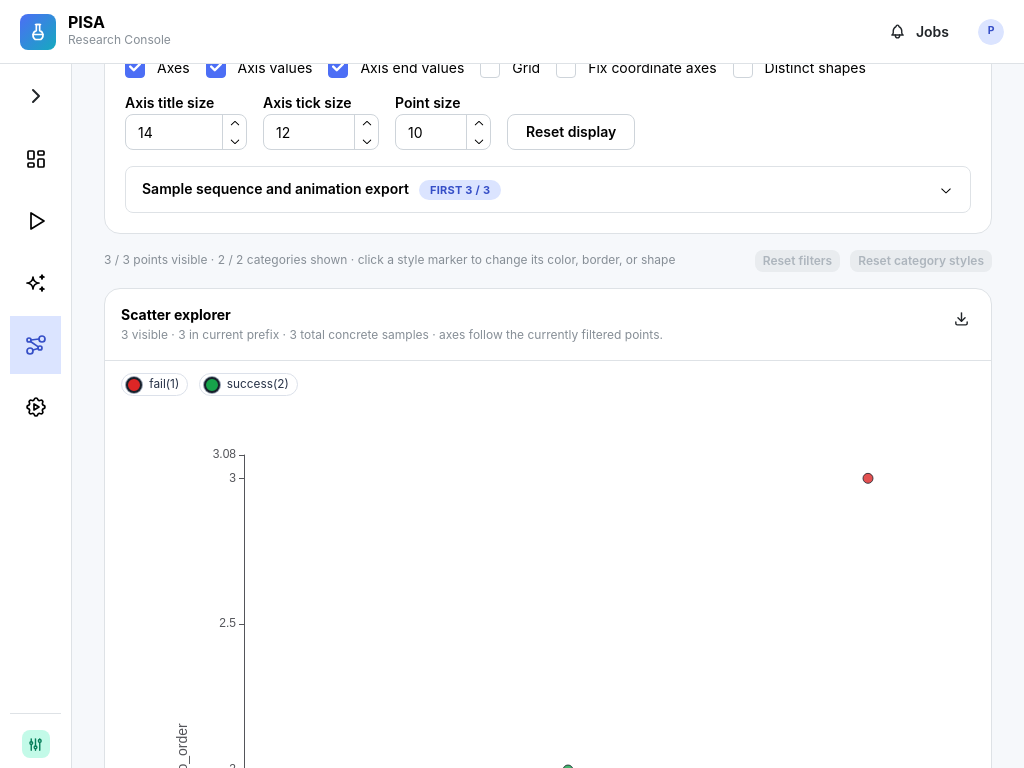
PISA Research Console › shows scatter category counts and updates the visible point total
(page scrolled)
Expected: the text "3 / 3 points visible" is shown, 104,252 -> 676,269
Expected: the button "fail(1)" is shown, 145,376 -> 183,393
Click the button "success(2)": {"x": 258, "y": 385} 223,376 -> 293,393
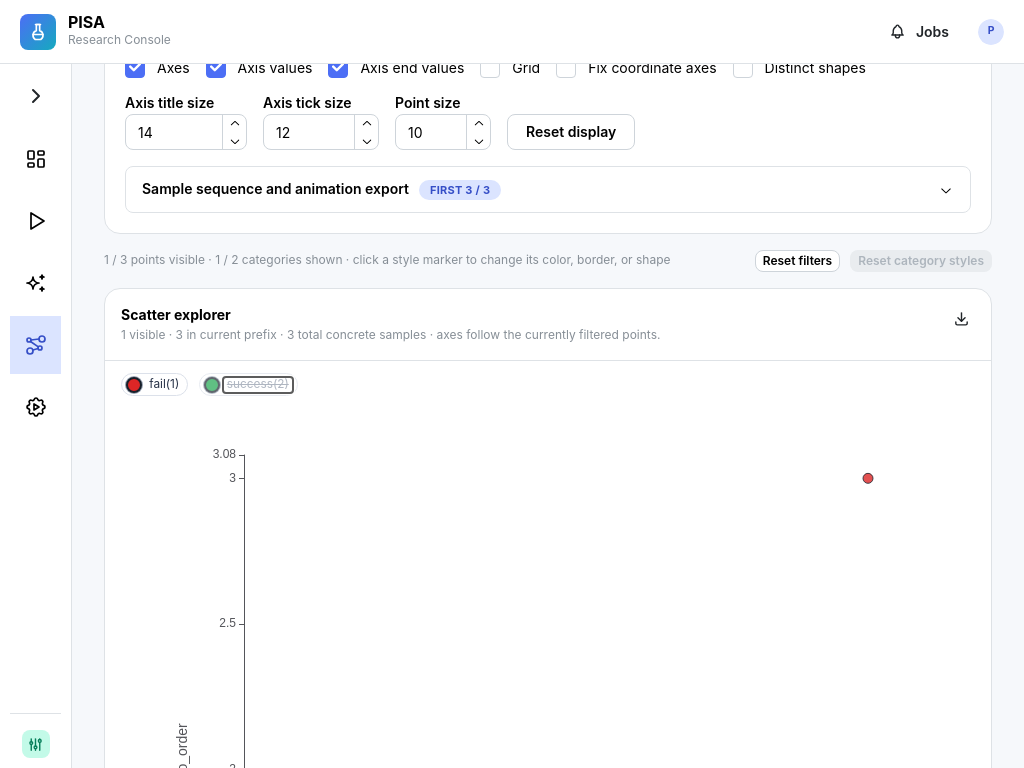
Result: the text "1 / 3 points visible" is shown at 104,252 -> 670,269
